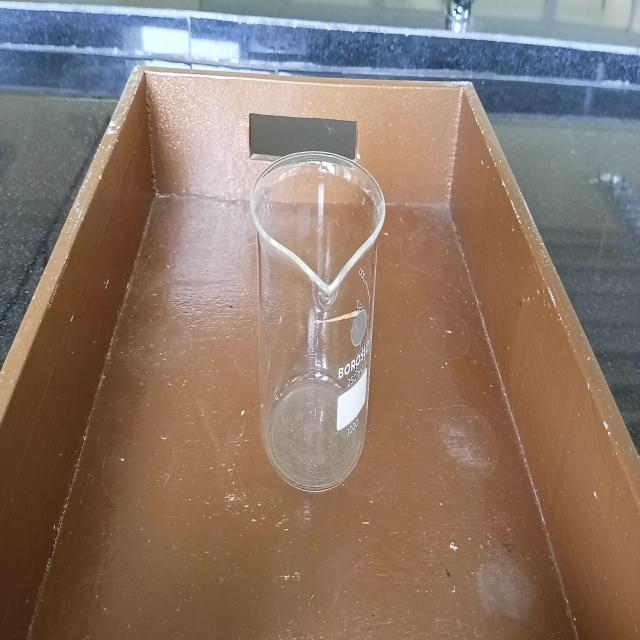beaker: (246, 145, 389, 497)
